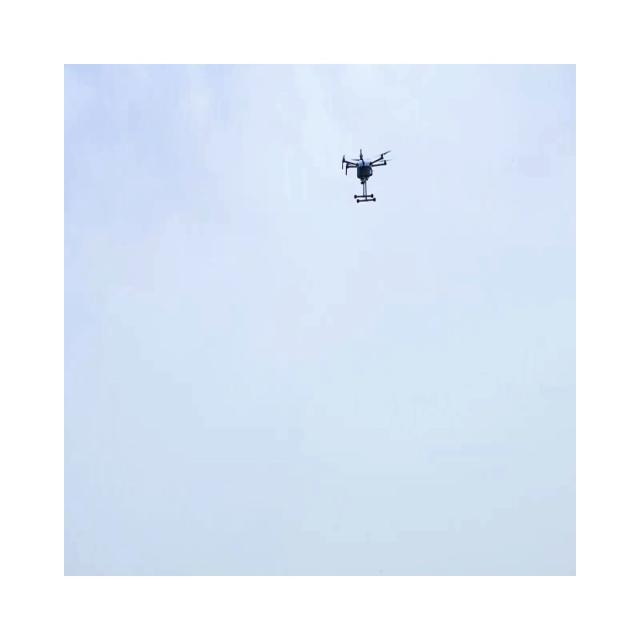drone: (342, 148, 392, 203)
